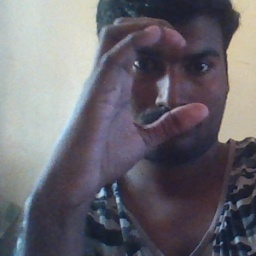C: (85, 16, 214, 145)
